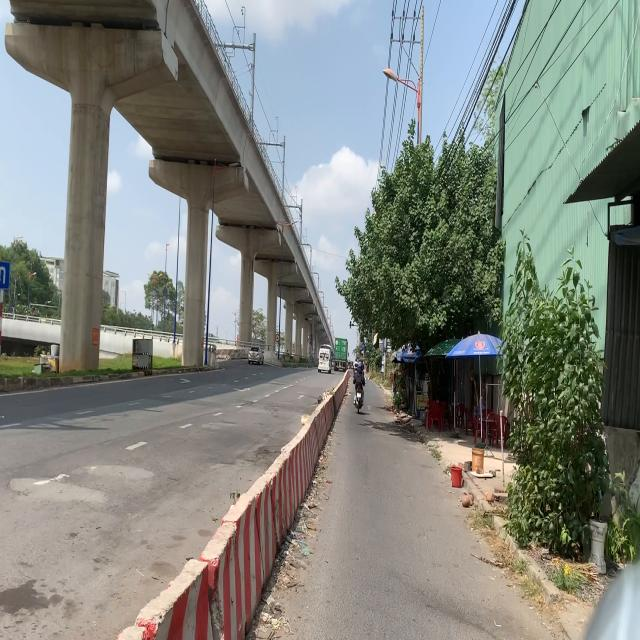Cam con lai: (275, 333, 280, 343)
